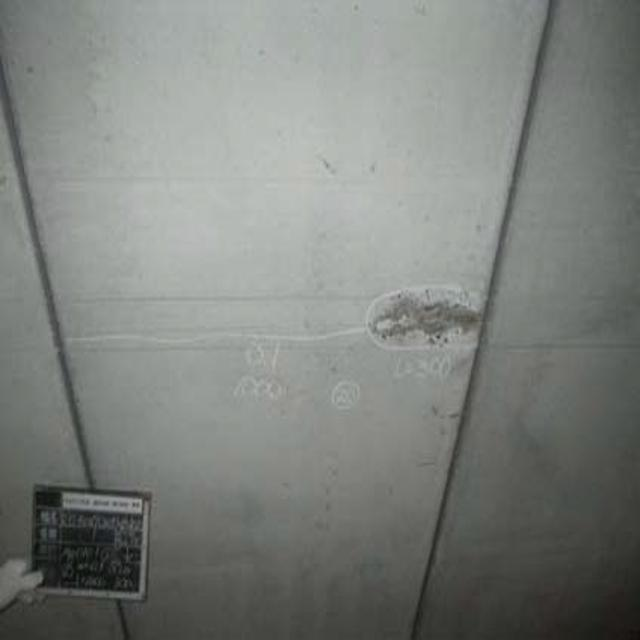spalling: (370, 257, 484, 366)
